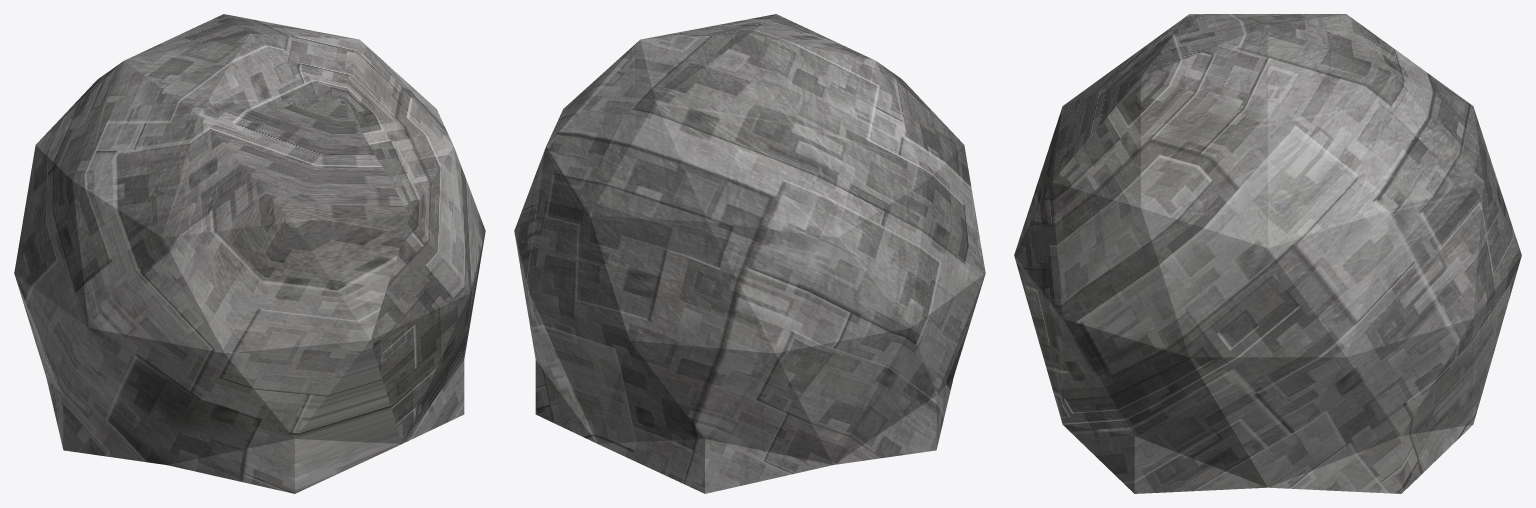
Rendered from BossSt 1.fbx.
3 views of the same model, side by side, from view 1: azimuth 30°, elevation 25°; view 2: azimuth 150°, elevation 25°; view 3: azimuth 270°, elevation 25° (orthographic). The views are drawn at different scales.
Visible parts, largest first — view 1: Boss001; view 2: Boss001; view 3: Boss001.
Part boxes in pixels (bbox=[...]): Boss001: bbox=[14, 14, 485, 493]; Boss001: bbox=[514, 14, 985, 493]; Boss001: bbox=[1014, 14, 1521, 493].
Bounding box in the file's own units: 190 × 170 × 200.
